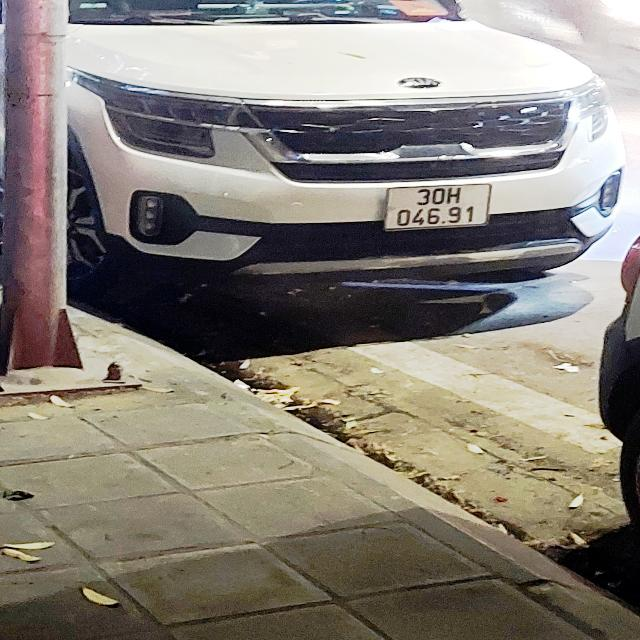license_plate: (388, 186, 493, 232)
